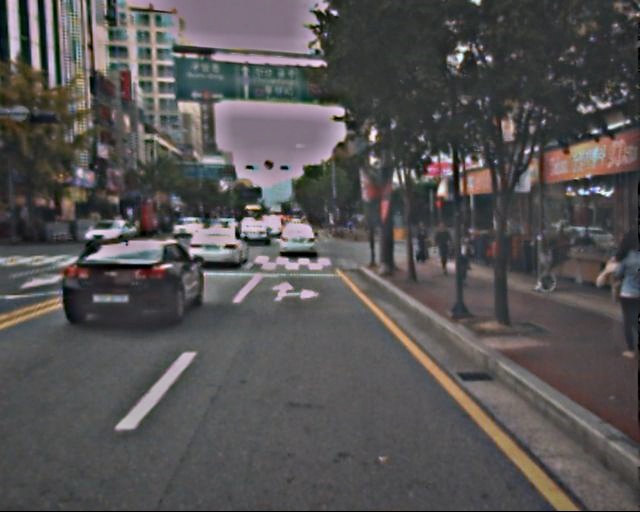person: (600, 229, 640, 360), (449, 220, 475, 288), (432, 223, 453, 275), (416, 221, 433, 267)
